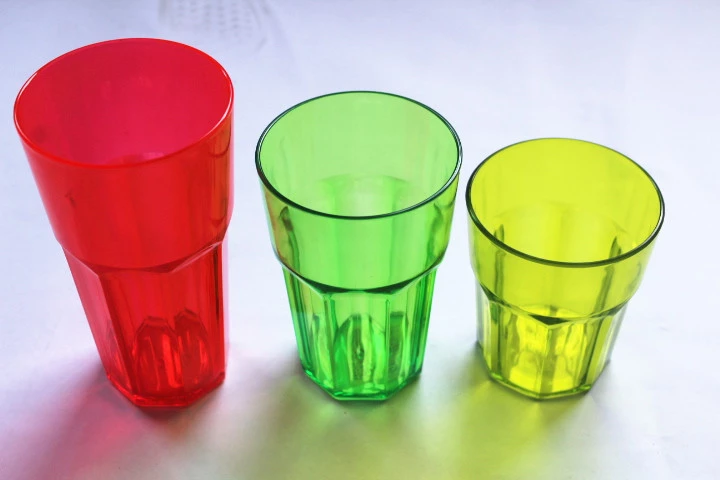plastic_bottle: (16, 35, 244, 417), (253, 89, 465, 408), (463, 134, 670, 409)
